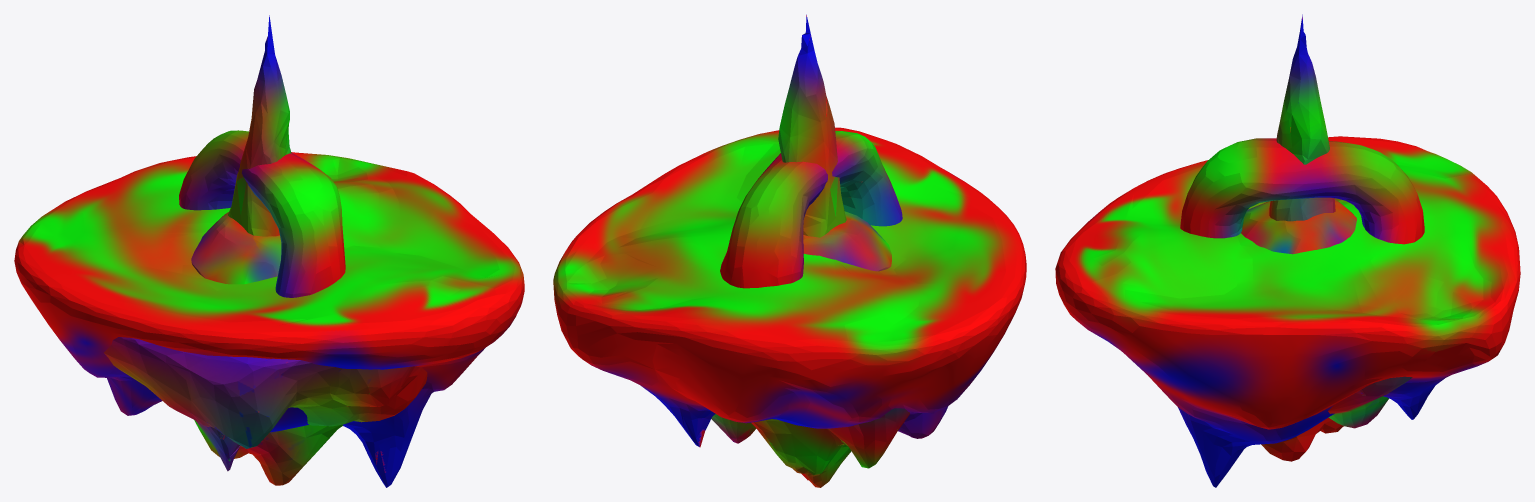
3 renders of one model, left to right at view 1: azimuth 30°, elevation 25°; view 2: azimuth 150°, elevation 25°; view 3: azimuth 270°, elevation 25°, orthographic. The views are drawn at different scales.
Parts seen in each view (by area): view 1: LargeIsland1, WaterBowlIsland, NaturalArch, Peak, Hill; view 2: LargeIsland1, NaturalArch, Peak, WaterBowlIsland, Hill; view 3: LargeIsland1, NaturalArch, Peak, Hill, WaterBowlIsland.
Part boxes in pixels (left/top/right/bottom): LargeIsland1: left=14, top=152, right=524, bottom=487; WaterBowlIsland: left=104, top=337, right=427, bottom=485; NaturalArch: left=179, top=130, right=345, bottom=297; Peak: left=228, top=15, right=291, bottom=236; Hill: left=191, top=212, right=281, bottom=284; LargeIsland1: left=553, top=127, right=1026, bottom=447; NaturalArch: left=720, top=131, right=902, bottom=288; Peak: left=778, top=14, right=846, bottom=237; WaterBowlIsland: left=711, top=408, right=909, bottom=487; Hill: left=803, top=211, right=891, bottom=271; LargeIsland1: left=1055, top=136, right=1520, bottom=487; NaturalArch: left=1180, top=138, right=1424, bottom=244; Peak: left=1269, top=14, right=1335, bottom=221; Hill: left=1241, top=199, right=1356, bottom=254; WaterBowlIsland: left=1261, top=376, right=1412, bottom=461.
Size of the model in its own units: 7034 by 7464 by 6768.
6 materials, 6 textured.
